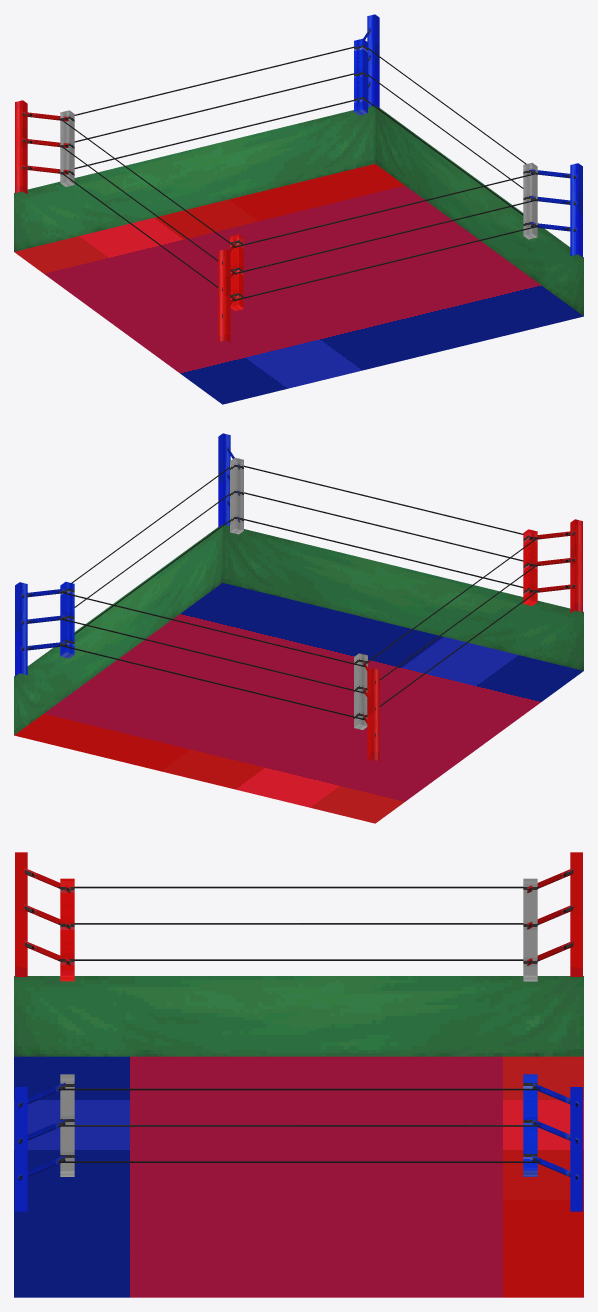
File: ps2_save-icons_kingofcolosseumzeroone.glb
3 views of the same model, one above another, from view 1: azimuth 30°, elevation 25°; view 2: azimuth 150°, elevation 25°; view 3: azimuth 270°, elevation 25° (orthographic). The views are drawn at different scales.
Parts seen in each view (by area): view 1: static.ico; view 2: static.ico; view 3: static.ico.
Boxes of the visible parts, left/top/right/bottom form: static.ico: left=14, top=14, right=583, bottom=404; static.ico: left=14, top=433, right=583, bottom=823; static.ico: left=14, top=852, right=583, bottom=1297.
Size of the model in its own units: 3.84 by 1.52 by 3.84.
Materials: 1 (1 with a texture image).
